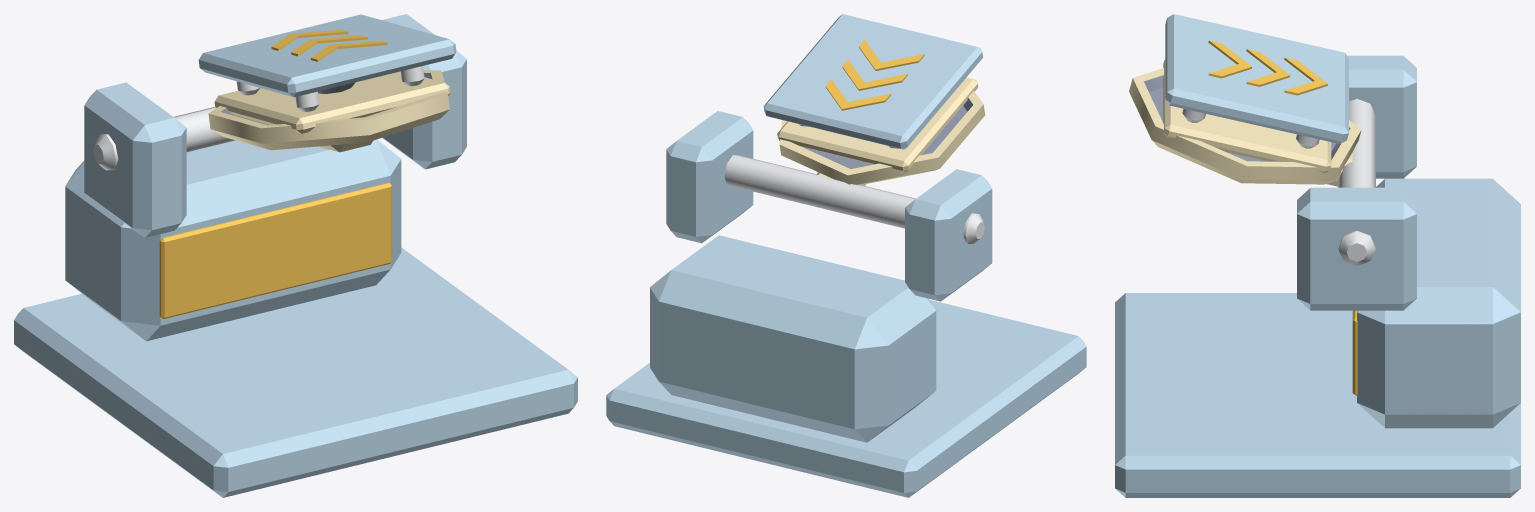
File: R4X_KnockbackTrapDeployer_LOD1.glb
3 renders of one model, left to right at view 1: azimuth 30°, elevation 25°; view 2: azimuth 150°, elevation 25°; view 3: azimuth 270°, elevation 25°, orthographic. The views are drawn at different scales.
Parts seen in each view (by area): view 1: R4X_KnockbackTrapDeployer_LOD1; view 2: R4X_KnockbackTrapDeployer_LOD1; view 3: R4X_KnockbackTrapDeployer_LOD1.
Part boxes in pixels (box(x1,y1,x2,y2)): R4X_KnockbackTrapDeployer_LOD1: box(14, 14, 577, 497); R4X_KnockbackTrapDeployer_LOD1: box(606, 14, 1086, 497); R4X_KnockbackTrapDeployer_LOD1: box(1115, 14, 1520, 497).
Bounding box in the file's own units: 0.52 × 0.5167 × 0.52.
